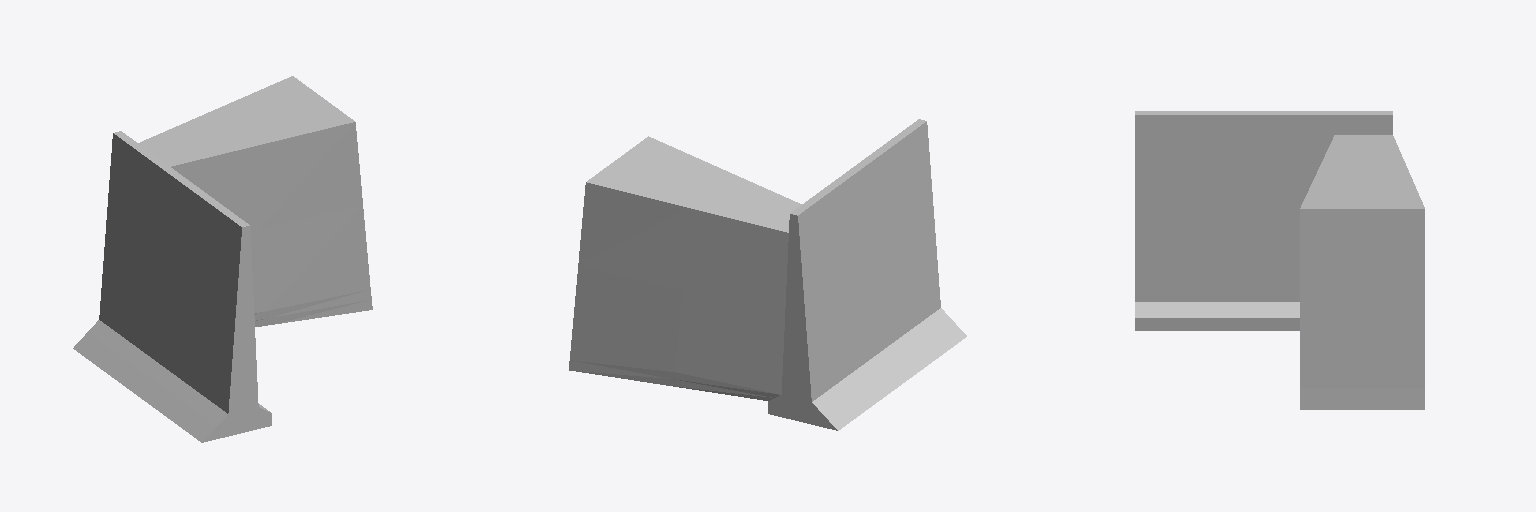
3 renders of one model, left to right at view 1: azimuth 30°, elevation 25°; view 2: azimuth 150°, elevation 25°; view 3: azimuth 270°, elevation 25°, orthographic.
Visible parts, largest first — view 1: walls; view 2: walls; view 3: walls.
Part boxes in pixels (x1,y1,x2,y2): walls: (73, 76, 372, 442); walls: (569, 119, 966, 430); walls: (1135, 111, 1424, 409).
Bounding box in the file's own units: 642 × 497 × 638.